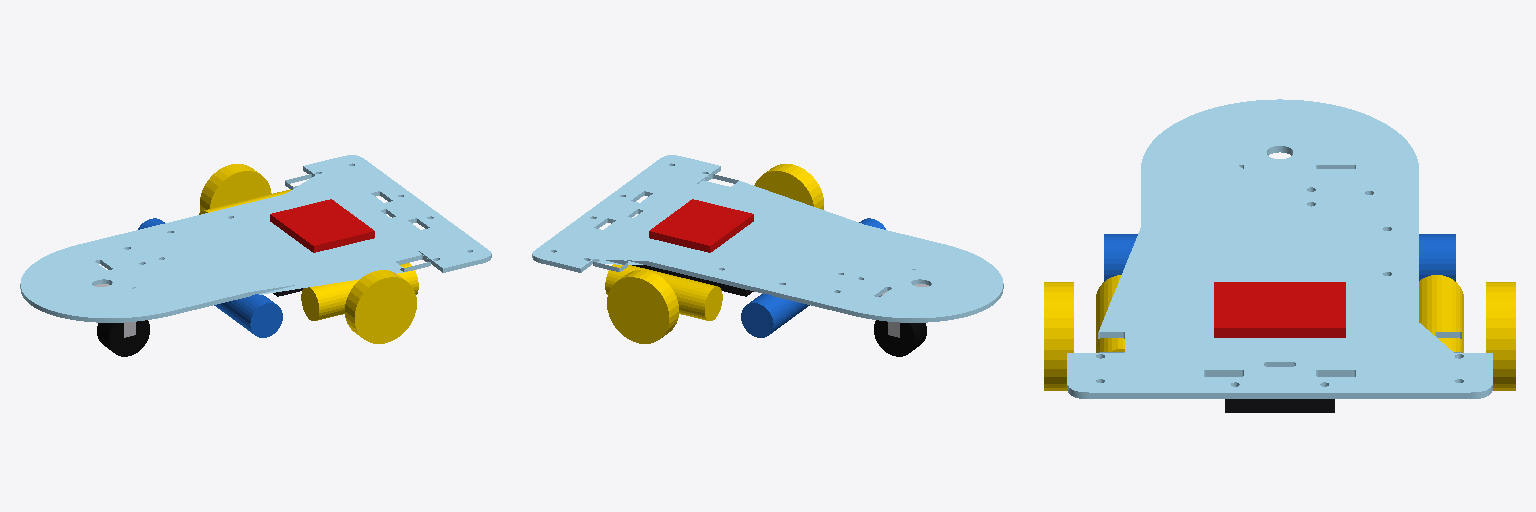
URDF robot description (robot-car):
<?xml version="1.0"?>
<!--
  Physical Agents OS — 2WD Robot Car
  Dimensions sourced from manufacturer datasheets and verified product listings.

  Coordinate convention (viewer-oriented, Z-up):
    -X = forward (bumper / front)   X = rear
    -Y = left                       Y = right
     Z = up

  Note: with -X as forward, RHR gives left = Z × (-X) = -Y.

  Note: bumper is at -X so it faces the viewer's default camera
  (Three.js camera dir (-1, 0.7, 1) → URDF -X side is camera-facing).

  Component sources:
    Chassis    — 220×150×3 mm acrylic (2WD kit, confirmed multiple sellers)
    TT Motor   — 70×22×18 mm body, 10 mm shaft @ ø5.3 mm (Adafruit #3777)
    Wheels     — ø65 mm × 25 mm rubber (Adafruit #3763)
    Caster     — 20 mm total height, 15.7 mm ball (Adafruit #3948)
    L298N      — 43×43×27.5 mm PCB + heatsink (Components101 datasheet)
    ESP32-CAM  — 40×27×12 mm incl. camera assembly (DFRobot DFR0602)
    HC-SR04    — 45×20×15 mm (SparkFun datasheet)
    Power bank — ø35×92 mm cylinder (SIXTHGU, estimated)
    9V battery — 62×27×22 mm holder (estimated)

  All dimensions in meters.
-->
<robot name="robot-car">

  <!-- ─────────────────────────────────────────────────────────────── -->
  <!-- CHASSIS                                                          -->
  <!-- Clear acrylic base plate: 220 × 150 × 3 mm                     -->
  <!-- Mesh: rounded body + curved front bumper arc (generated STL)   -->
  <!-- Bumper at -X (front/camera-facing), rear at +X                 -->
  <!-- ─────────────────────────────────────────────────────────────── -->
  <!-- base_link is the root reference frame (no visual) -->
  <link name="base_link"/>

  <!-- chassis is a child of base_link so the Inspector can select/scale it -->
  <joint name="chassis_joint" type="fixed">
    <parent link="base_link"/>
    <child link="chassis"/>
    <origin xyz="0 0 0" rpy="0 0 0"/>
  </joint>

  <link name="chassis">
    <visual>
      <geometry>
        <mesh filename="chassis.stl" scale="1.07 0.90 1.00"/>
      </geometry>
      <material name="acrylic">
        <color rgba="0.72 0.91 1.00 0.50"/>
      </material>
    </visual>
  </link>

  <!-- ─────────────────────────────────────────────────────────────── -->
  <!-- LEFT DRIVE MOTOR                                                 -->
  <!-- TT motor: body 70 × 22 × 22 mm (can runs along X, shaft along Y)-->
  <!-- Shaft center 9.3 mm above chassis top (verified from datasheet) -->
  <!-- ─────────────────────────────────────────────────────────────── -->
  <link name="motor_left">
    <visual>
      <origin xyz="0 0 0" rpy="0 1.5708 0"/>
      <geometry>
        <cylinder radius="0.011" length="0.070"/>
      </geometry>
      <material name="motor_yellow">
        <color rgba="1.00 0.85 0.00 1.00"/>
      </material>
    </visual>
  </link>
  <joint name="motor_left_joint" type="fixed">
    <parent link="base_link"/>
    <child link="motor_left"/>
    <origin xyz="0.0400 -0.0630 -0.0110" rpy="0.0000 0.0000 0.0000"/>
  </joint>

  <!-- ─────────────────────────────────────────────────────────────── -->
  <!-- RIGHT DRIVE MOTOR                                                -->
  <!-- ─────────────────────────────────────────────────────────────── -->
  <link name="motor_right">
    <visual>
      <origin xyz="0 0 0" rpy="0 1.5708 0"/>
      <geometry>
        <cylinder radius="0.011" length="0.070"/>
      </geometry>
      <material name="motor_yellow">
        <color rgba="1.00 0.85 0.00 1.00"/>
      </material>
    </visual>
  </link>
  <joint name="motor_right_joint" type="fixed">
    <parent link="base_link"/>
    <child link="motor_right"/>
    <origin xyz="0.0400 0.0630 -0.0110" rpy="0.0000 0.0000 0.0000"/>
  </joint>

  <!-- ─────────────────────────────────────────────────────────────── -->
  <!-- LEFT WHEEL                                                       -->
  <!-- STL: base cyl R=31mm, tread blocks 16×4 raised to R=32.5mm, W=26mm -->
  <!-- Yellow hub disc on outboard face (local +Z → world outboard for left wheel) -->
  <!-- Shaft center at Z=+11 mm so car sits flat with swivel caster    -->
  <!-- ─────────────────────────────────────────────────────────────── -->
  <link name="wheel_left">
    <visual>
      <geometry>
        <mesh filename="wheel.stl"/>
      </geometry>
      <material name="rubber">
        <color rgba="0.10 0.10 0.10 1.00"/>
      </material>
    </visual>
    <!-- Yellow hub disc on the outboard face (local +Z = outboard for left wheel) -->
    <visual>
      <origin xyz="0 0 0.0075" rpy="0 0 0"/>
      <geometry>
        <cylinder radius="0.022" length="0.012"/>
      </geometry>
      <material name="hub_yellow">
        <color rgba="1.00 0.85 0.00 1.00"/>
      </material>
    </visual>
  </link>
  <joint name="wheel_left_joint" type="continuous">
    <parent link="base_link"/>
    <child link="wheel_left"/>
    <!-- rpy rotates cylinder from Z-axis to Y-axis so wheel spins around Y -->
    <origin xyz="0.0400 -0.0810 -0.0110" rpy="1.5708 0.0000 0.0000"/>
    <axis xyz="0 0 1"/>
    <limit effort="2.0" velocity="15.0"/>
  </joint>

  <!-- ─────────────────────────────────────────────────────────────── -->
  <!-- RIGHT WHEEL                                                      -->
  <!-- Same STL as left wheel; hub at local −Z = outboard for right   -->
  <!-- ─────────────────────────────────────────────────────────────── -->
  <link name="wheel_right">
    <visual>
      <geometry>
        <mesh filename="wheel.stl"/>
      </geometry>
      <material name="rubber">
        <color rgba="0.10 0.10 0.10 1.00"/>
      </material>
    </visual>
    <!-- Yellow hub disc on the outboard face (local -Z = outboard for right wheel) -->
    <visual>
      <origin xyz="0 0 -0.0075" rpy="0 0 0"/>
      <geometry>
        <cylinder radius="0.022" length="0.012"/>
      </geometry>
      <material name="hub_yellow">
        <color rgba="1.00 0.85 0.00 1.00"/>
      </material>
    </visual>
  </link>
  <joint name="wheel_right_joint" type="continuous">
    <parent link="base_link"/>
    <child link="wheel_right"/>
    <origin xyz="0.0400 0.0810 -0.0110" rpy="1.5708 0.0000 0.0000"/>
    <axis xyz="0 0 1"/>
    <limit effort="2.0" velocity="15.0"/>
  </joint>

  <!-- ─────────────────────────────────────────────────────────────── -->
  <!-- CASTER WHEEL ASSEMBLY (front-center, -X side)                   -->
  <!-- Swivel caster: square mount plate + steel fork + rubber wheel   -->
  <!-- Three parts share X/Y; stacked down from chassis underside      -->
  <!-- ─────────────────────────────────────────────────────────────── -->

  <!-- Mount plate: ~36×36×4 mm clear/steel -->
  <link name="caster_plate">
    <visual>
      <geometry>
        <box size="0.036 0.036 0.004"/>
      </geometry>
      <material name="caster_metal">
        <color rgba="0.76 0.76 0.78 1.00"/>
      </material>
    </visual>
  </link>
  <joint name="caster_plate_joint" type="fixed">
    <parent link="base_link"/>
    <child link="caster_plate"/>
    <origin xyz="-0.0900 0.0000 -0.0040" rpy="0 0 0"/>
  </joint>

  <!-- Swivel fork: thin U-bracket, spans plate bottom → wheel center  -->
  <!-- Height 8 mm: from plate bottom (−5 mm) to wheel center (−13.5 mm)-->
  <link name="caster_fork">
    <visual>
      <geometry>
        <box size="0.008 0.016 0.030"/>
      </geometry>
      <material name="caster_metal">
        <color rgba="0.76 0.76 0.78 1.00"/>
      </material>
    </visual>
  </link>
  <joint name="caster_fork_joint" type="fixed">
    <parent link="base_link"/>
    <child link="caster_fork"/>
    <origin xyz="-0.0900 0.0000 -0.0180" rpy="0.0000 0.0000 0.0000"/>
  </joint>

  <!-- Swivel wheel: rubber; dimensions × 1.21 from inspector calibration -->
  <!-- continuous so it visually rolls when car moves                     -->
  <link name="caster_wheel">
    <visual>
      <geometry>
        <cylinder radius="0.0146" length="0.0145"/>
      </geometry>
      <material name="caster_rubber">
        <color rgba="0.08 0.08 0.08 1.00"/>
      </material>
    </visual>
  </link>
  <joint name="caster_wheel_joint" type="continuous">
    <parent link="base_link"/>
    <child link="caster_wheel"/>
    <origin xyz="-0.0900 0.0000 -0.0320" rpy="1.5708 0.0000 0.0000"/>
    <axis xyz="0 0 1"/>
  </joint>

  <!-- ─────────────────────────────────────────────────────────────── -->
  <!-- L298N DUAL H-BRIDGE MOTOR DRIVER                                 -->
  <!-- PCB + heatsink: 43 × 43 × 27.5 mm (Components101 datasheet)    -->
  <!-- ─────────────────────────────────────────────────────────────── -->
  <link name="l298n">
    <visual>
      <geometry>
        <box size="0.0434 0.0533 0.0055"/>
      </geometry>
      <material name="pcb_red">
        <color rgba="0.85 0.08 0.08 1.00"/>
      </material>
    </visual>
  </link>
  <joint name="l298n_joint" type="fixed">
    <parent link="base_link"/>
    <child link="l298n"/>
    <origin xyz="0.0500 0.0000 0.0050" rpy="0.0000 0.0000 0.0000"/>
  </joint>




  <!-- ─────────────────────────────────────────────────────────────── -->
  <!-- AA BATTERY BOX (4×AA)                                           -->
  <!-- Holder: ~62 × 52 × 22 mm; mounted under chassis                -->
  <!-- ─────────────────────────────────────────────────────────────── -->
  <link name="battery_box">
    <visual>
      <geometry>
        <box size="0.0806 0.0442 0.022"/>
      </geometry>
      <material name="battery">
        <color rgba="0.12 0.12 0.14 1.00"/>
      </material>
    </visual>
  </link>
  <joint name="battery_box_joint" type="fixed">
    <parent link="base_link"/>
    <child link="battery_box"/>
    <!-- Z: chassis bottom (−1.5 mm) − half box (11 mm) = −12.5 mm -->
    <origin xyz="0.0460 0.0000 -0.0120" rpy="0.0000 0.0000 0.0000"/>
  </joint>

  <!-- ─────────────────────────────────────────────────────────────── -->
  <!-- POWER BANK (cylindrical)                                              -->
  <!-- ø16 mm × 92 mm; flush against chassis underside, spanning Y axis    -->
  <!-- Z: chassis bottom (−1.5 mm) − radius (8 mm) = −9.5 mm              -->
  <!-- Ground clearance: 21.5 mm − (9.5 + 8) = 4 mm                       -->
  <!-- ─────────────────────────────────────────────────────────────── -->
  <link name="powerbank">
    <visual>
      <geometry>
        <cylinder radius="0.0115" length="0.141"/>
      </geometry>
      <material name="powerbank_blue">
        <color rgba="0.15 0.45 0.85 1.00"/>
      </material>
    </visual>
  </link>
  <joint name="powerbank_joint" type="fixed">
    <parent link="base_link"/>
    <child link="powerbank"/>
    <origin xyz="-0.0300 0.0000 -0.0110" rpy="1.5708 0.0000 0.0000"/>
  </joint>



</robot>

--- Facts derived from the render (not from the file) ---
The picture shows the robot from 3 angles, left to right: view 1: azimuth 30°, elevation 25°; view 2: azimuth 150°, elevation 25°; view 3: azimuth 270°, elevation 25°; orthographic projection.
Model robot-car with 12 links and 11 joints (3 continuous, 8 fixed), rooted at base_link, posed every joint at zero.
Visible links, largest first — view 1: chassis, wheel_left, l298n, wheel_right, powerbank, motor_left, caster_wheel; view 2: chassis, wheel_right, l298n, motor_right, powerbank, wheel_left, caster_wheel; view 3: chassis, l298n, wheel_left, wheel_right, powerbank, motor_right, battery_box, motor_left.
Link boxes in pixels (bbox=[...]): chassis: bbox=[20, 155, 491, 322]; wheel_left: bbox=[345, 270, 416, 343]; l298n: bbox=[270, 199, 374, 252]; wheel_right: bbox=[200, 164, 271, 211]; powerbank: bbox=[138, 218, 282, 337]; motor_left: bbox=[301, 263, 418, 320]; caster_wheel: bbox=[97, 320, 149, 356]; chassis: bbox=[532, 155, 1003, 322]; wheel_right: bbox=[607, 270, 678, 343]; l298n: bbox=[649, 199, 753, 252]; motor_right: bbox=[605, 264, 722, 320]; powerbank: bbox=[741, 218, 885, 337]; wheel_left: bbox=[754, 164, 823, 209]; caster_wheel: bbox=[874, 320, 926, 356]; chassis: bbox=[1067, 99, 1492, 398]; l298n: bbox=[1214, 282, 1345, 337]; wheel_left: bbox=[1044, 282, 1073, 390]; wheel_right: bbox=[1486, 282, 1515, 390]; powerbank: bbox=[1104, 234, 1455, 281]; motor_right: bbox=[1419, 275, 1463, 352]; battery_box: bbox=[1225, 399, 1334, 412]; motor_left: bbox=[1096, 275, 1124, 352].
Bounding box of the posed robot: 0.2782 × 0.189 × 0.0576 m (x, y, z).
Meshes: 2 distinct files referenced, 1 mesh visuals loaded (1 binary STL); not drawn: 2 (reference not matched to a file when rendering).
